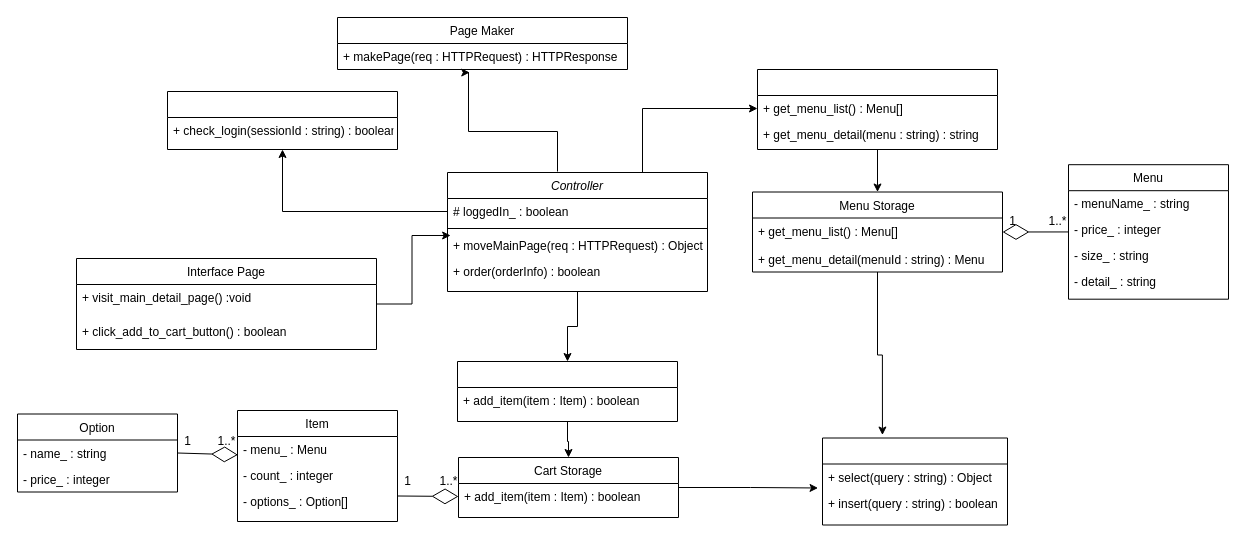
Some shapes in this 1246 by 543 pixel diagram are drawn without their labels. Each missing label, with the box of its shape:
Cart Operator: (456, 360, 678, 422)
Database: (822, 437, 1008, 525)
Login Checker: (166, 90, 398, 150)
Menu Operator: (756, 68, 998, 150)
